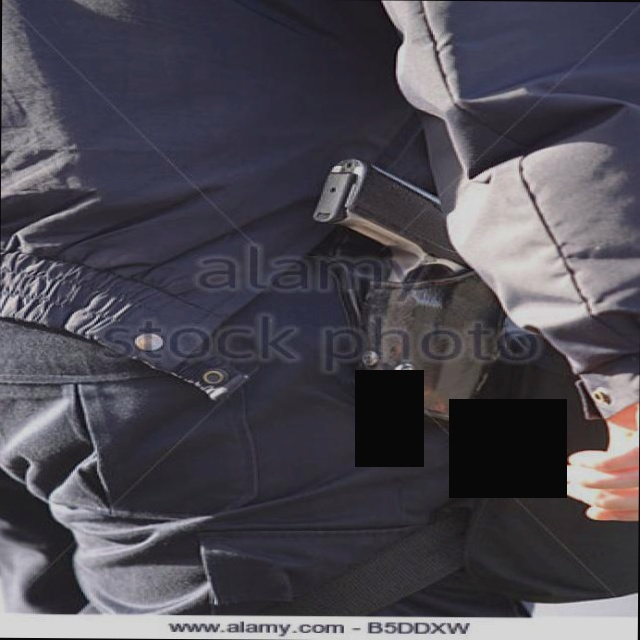gun: (308, 149, 515, 423)
